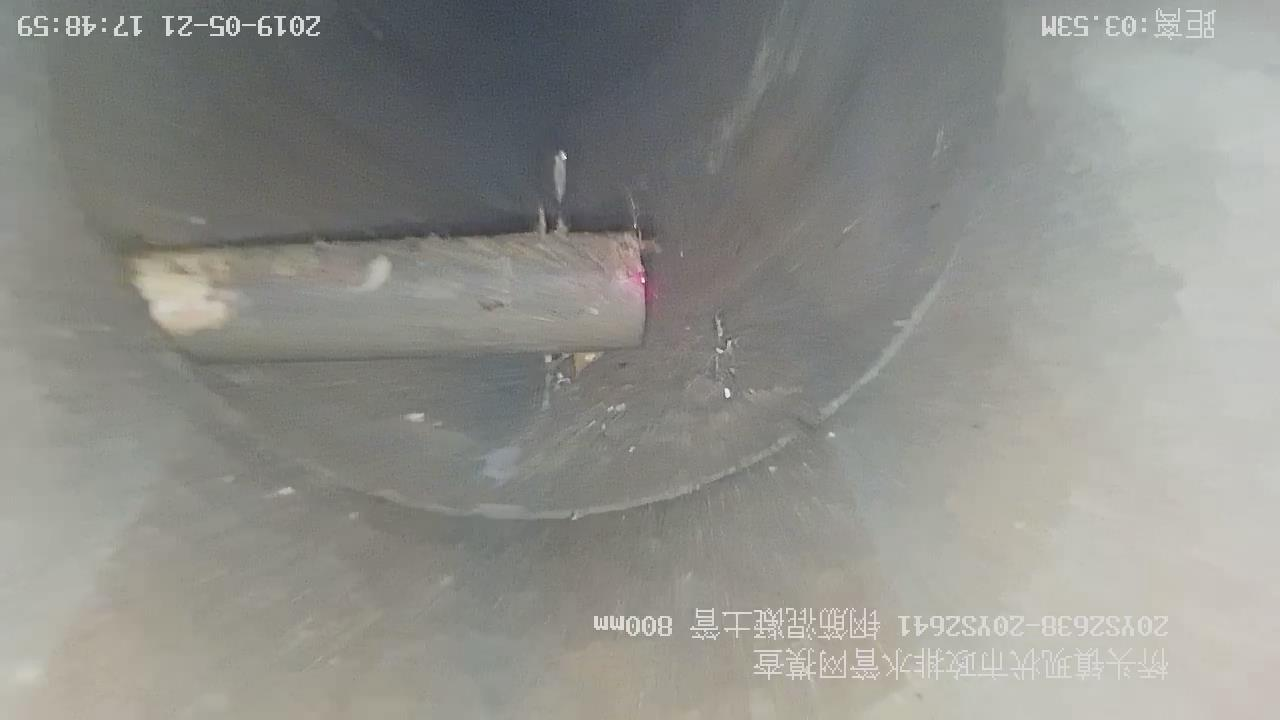ZGAJ: (126, 226, 646, 361)
